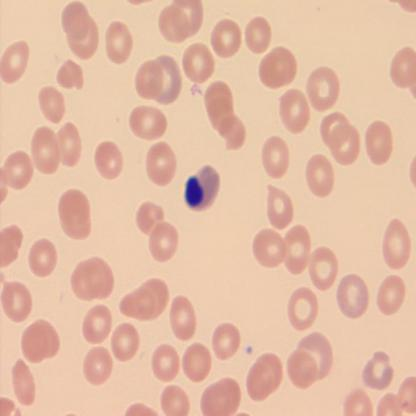NRC: (183, 163, 223, 212)
